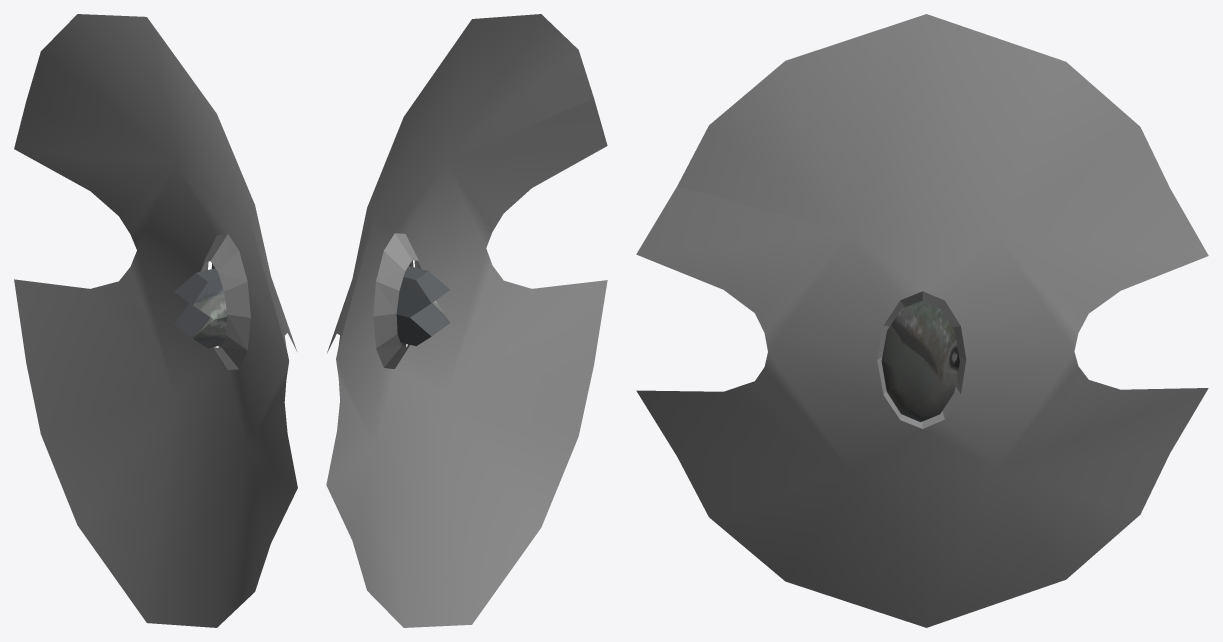
File: Halo 2 - Weapon - Jackal Shield.obj
3 renders of one model, left to right at view 1: azimuth 30°, elevation 25°; view 2: azimuth 150°, elevation 25°; view 3: azimuth 270°, elevation 25°, orthographic.
Parts seen in each view (by area): view 1: shield_default, emitter_default; view 2: shield_default, emitter_default; view 3: shield_default, emitter_default.
Boxes of the visible parts, x1,y1,x2,y2 form: shield_default: [14, 14, 297, 627]; emitter_default: [174, 264, 227, 348]; shield_default: [326, 14, 607, 627]; emitter_default: [396, 260, 449, 346]; shield_default: [636, 14, 1208, 627]; emitter_default: [881, 301, 959, 421].
Size of the model in its own units: 8.03 by 50.12 by 42.37.
Materials: 2 (1 with a texture image).
